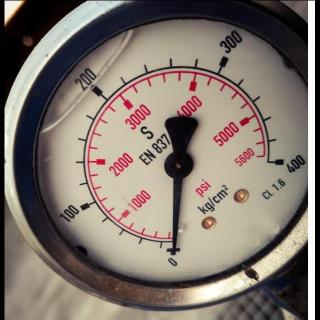gauge: (5, 1, 311, 319), (154, 228, 190, 276), (257, 145, 295, 178), (162, 150, 195, 179), (315, 19, 319, 242), (167, 243, 181, 259)
